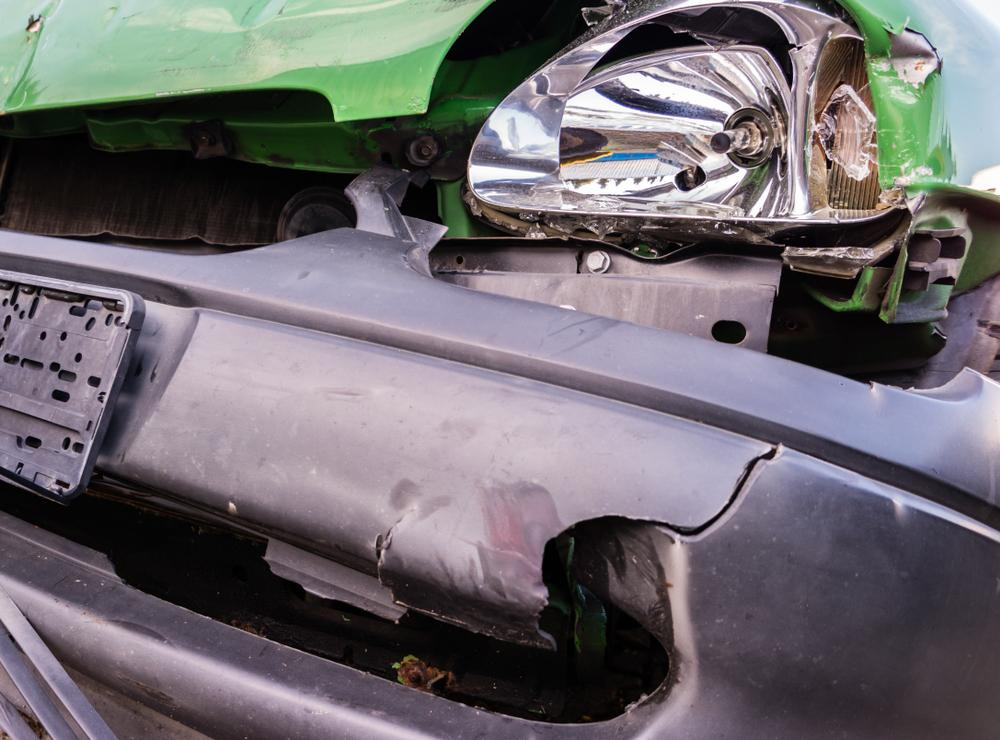crack: (660, 446, 784, 540)
dent: (867, 13, 941, 100)
lamp broken: (459, 0, 891, 221)
